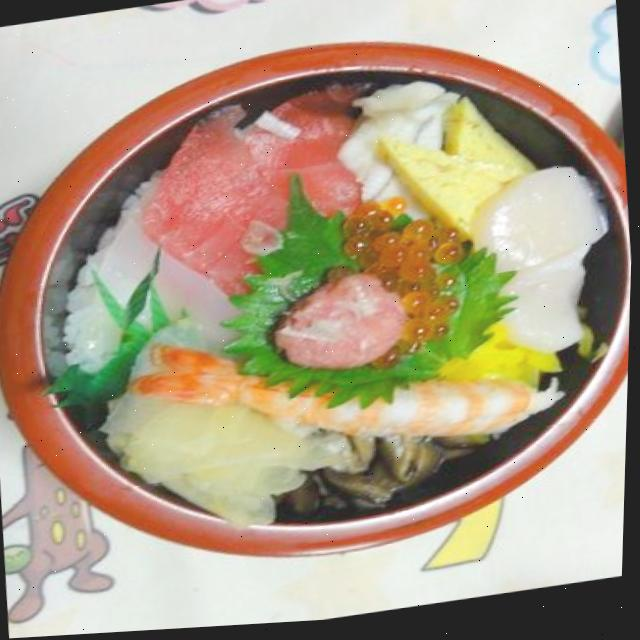刺身生食: (0, 23, 639, 604)
